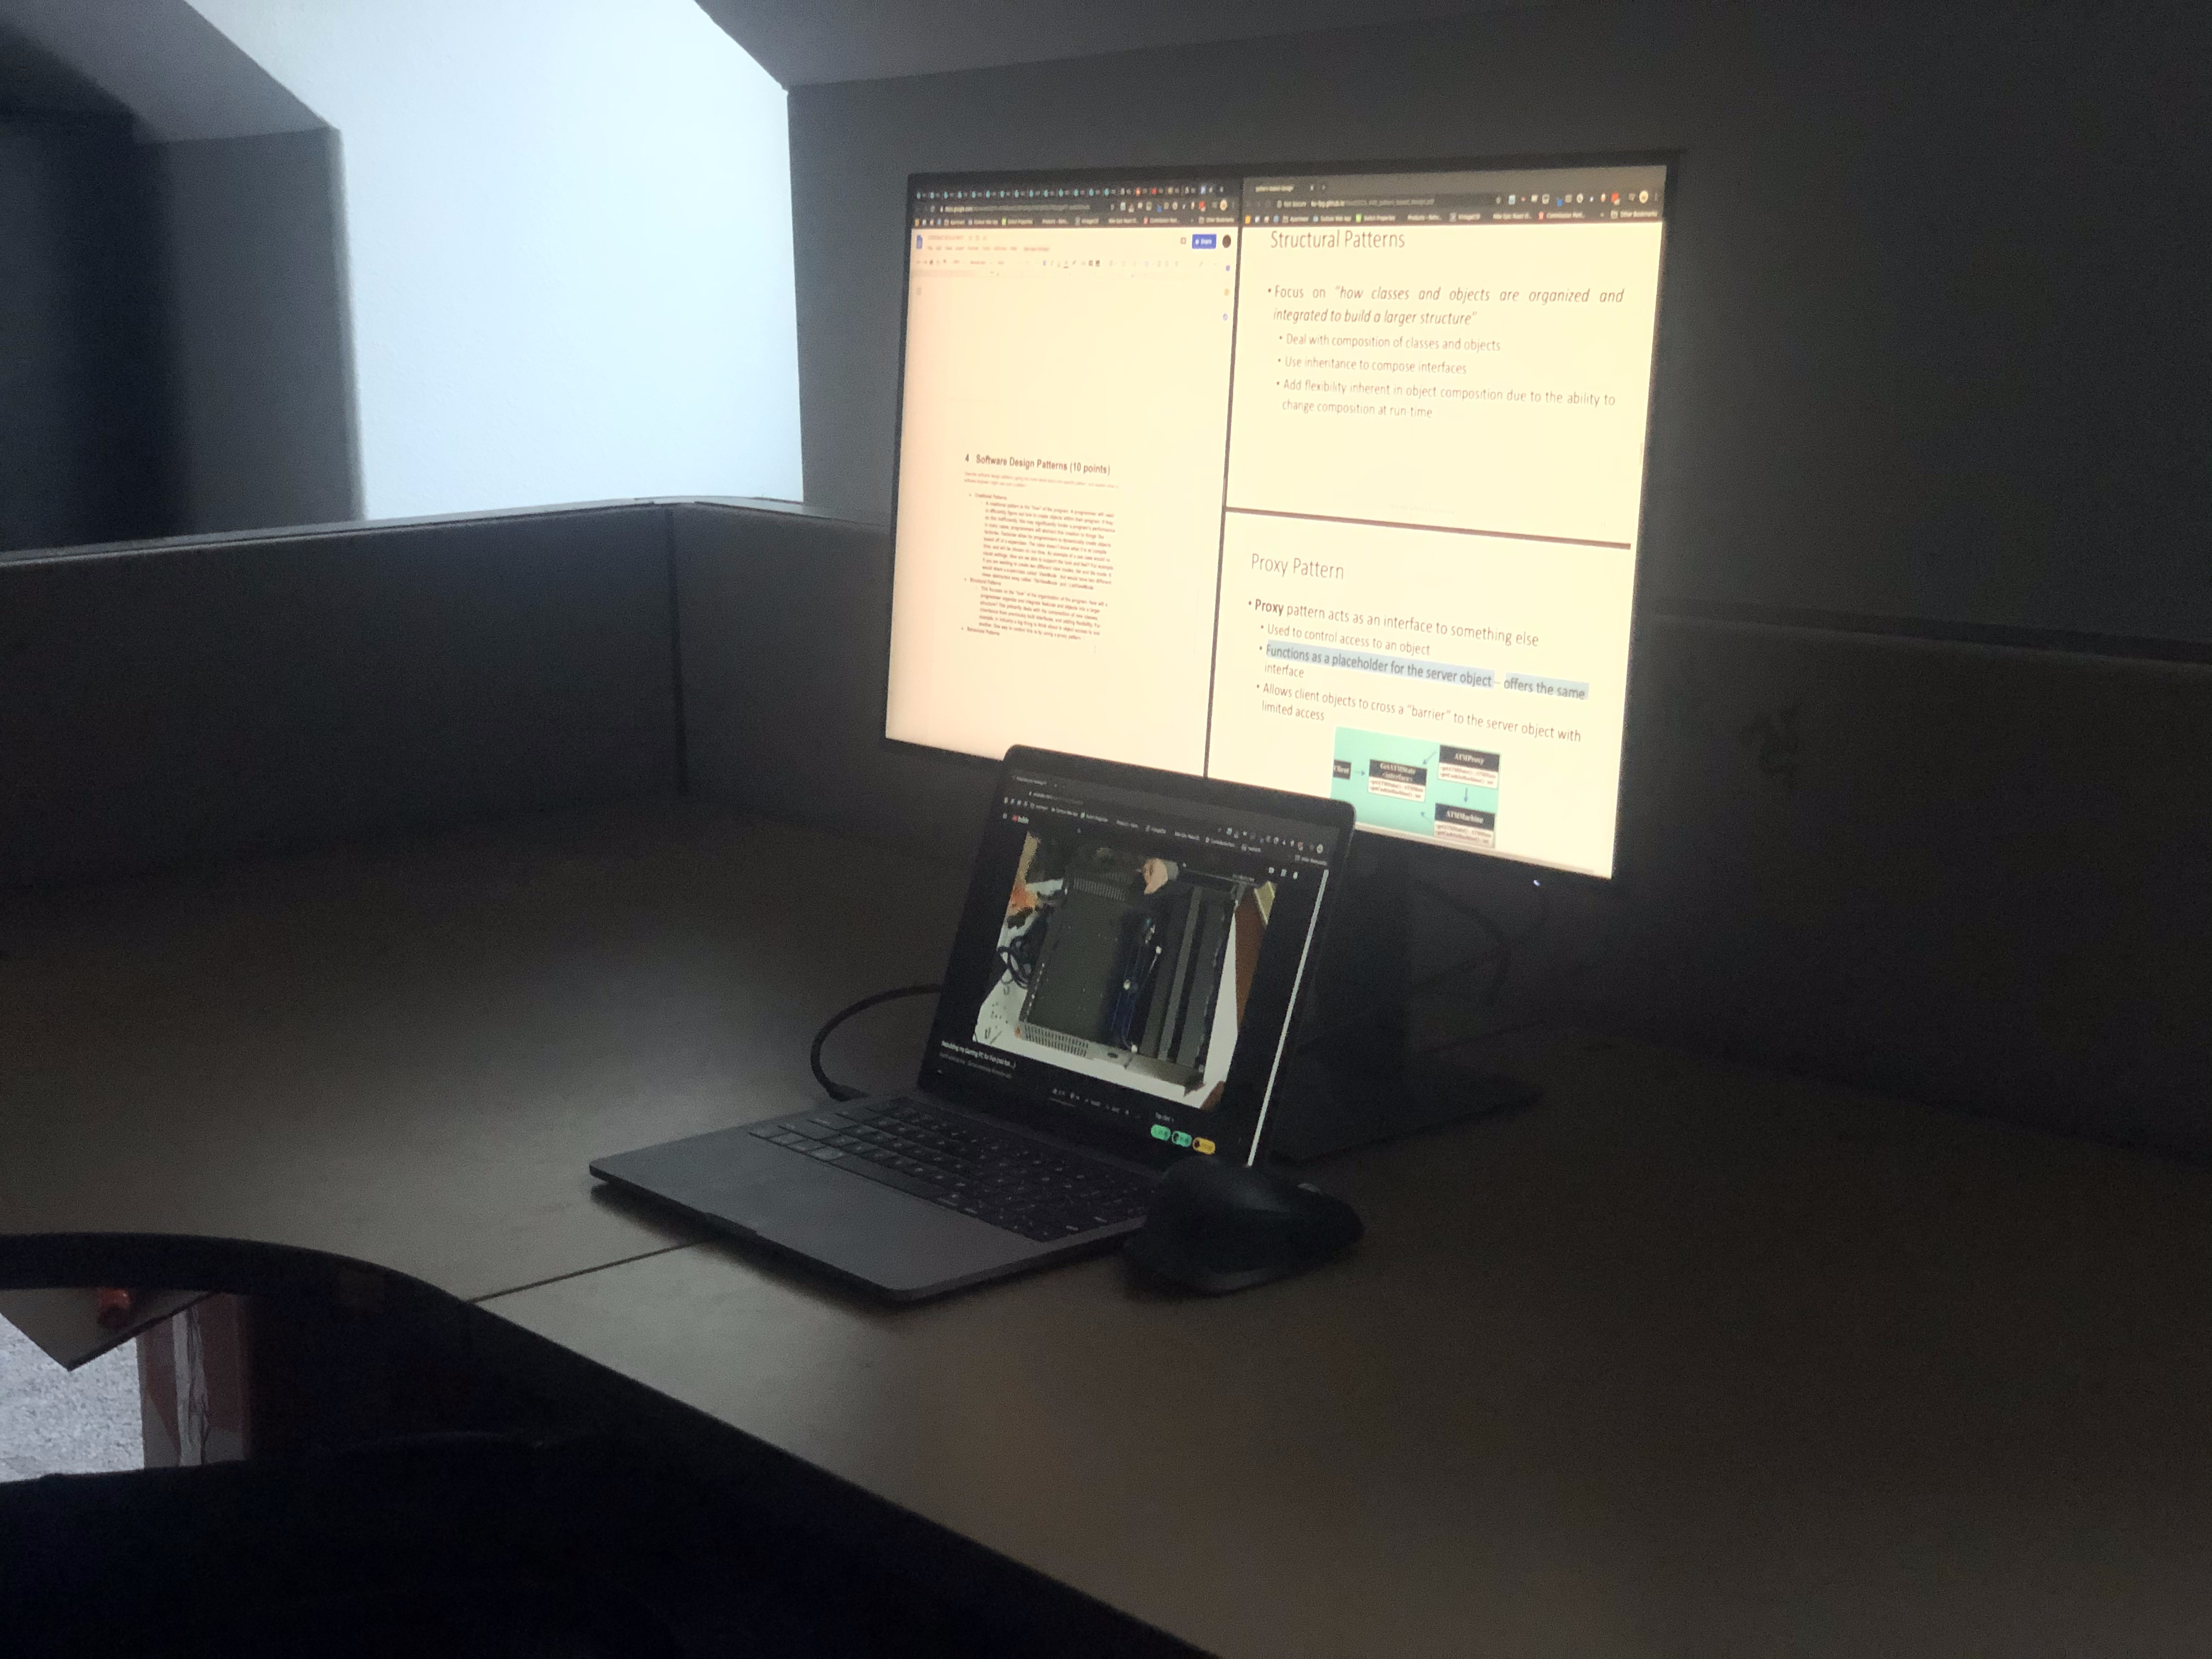Desk (Generic): (2, 497, 2212, 1659)
Laptop (OSX): (552, 735, 1371, 1319)
Monitor (Landscape): (878, 155, 1700, 1185)
Mouse (Ergonomic): (1113, 1141, 1376, 1314)
